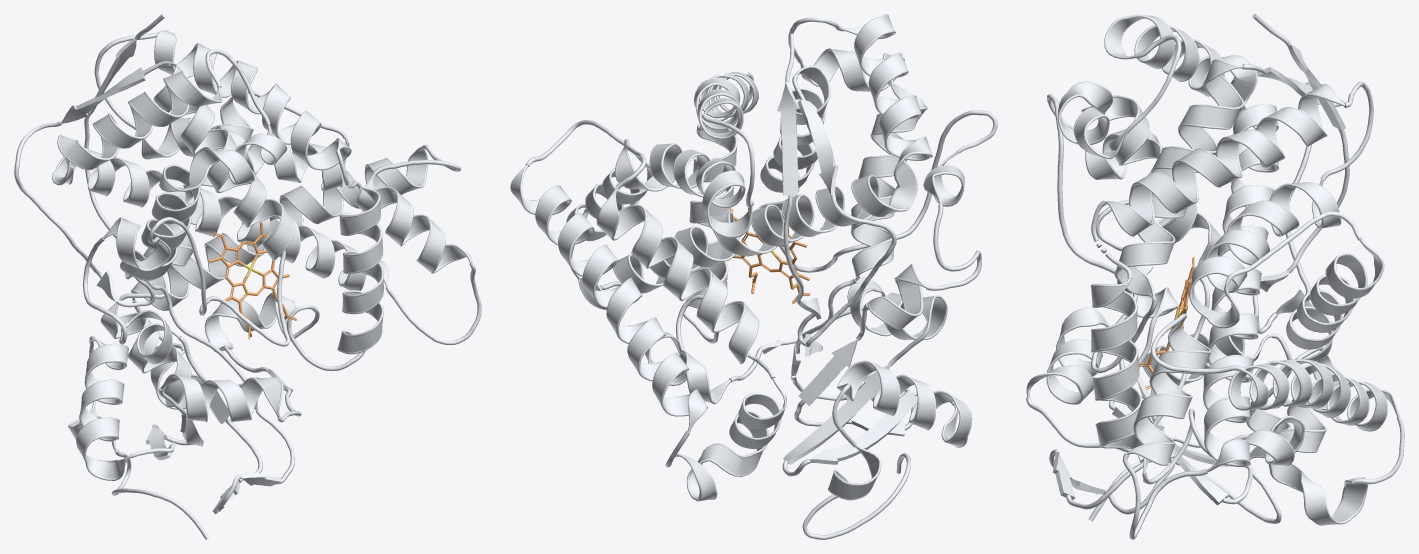
The model's file is enzymewhite.glb.
3 renders of one model, left to right at view 1: azimuth 30°, elevation 25°; view 2: azimuth 150°, elevation 25°; view 3: azimuth 270°, elevation 25°, orthographic. The views are drawn at different scales.
Parts seen in each view (by area): view 1: node-geom71, node-geom69, node-geom73, node-geom70, node-geom72; view 2: node-geom71, node-geom70, node-geom69, node-geom73, node-geom72; view 3: node-geom70, node-geom71, node-geom69, node-geom73, node-geom72.
Boxes of the visible parts, left/top/right/bottom form: node-geom71: left=52, top=71, right=481, bottom=409; node-geom69: left=68, top=186, right=383, bottom=539; node-geom73: left=14, top=14, right=295, bottom=514; node-geom70: left=94, top=30, right=383, bottom=406; node-geom72: left=52, top=49, right=388, bottom=511; node-geom71: left=510, top=14, right=931, bottom=501; node-geom70: left=596, top=72, right=786, bottom=500; node-geom69: left=645, top=123, right=972, bottom=539; node-geom73: left=757, top=33, right=997, bottom=436; node-geom72: left=578, top=14, right=932, bottom=434; node-geom70: left=1091, top=81, right=1384, bottom=525; node-geom71: left=1104, top=15, right=1404, bottom=539; node-geom69: left=1026, top=278, right=1305, bottom=523; node-geom73: left=1047, top=14, right=1349, bottom=514; node-geom72: left=1049, top=14, right=1278, bottom=509.
Bounding box in the file's own units: 55.41 × 63.5 × 41.3.
